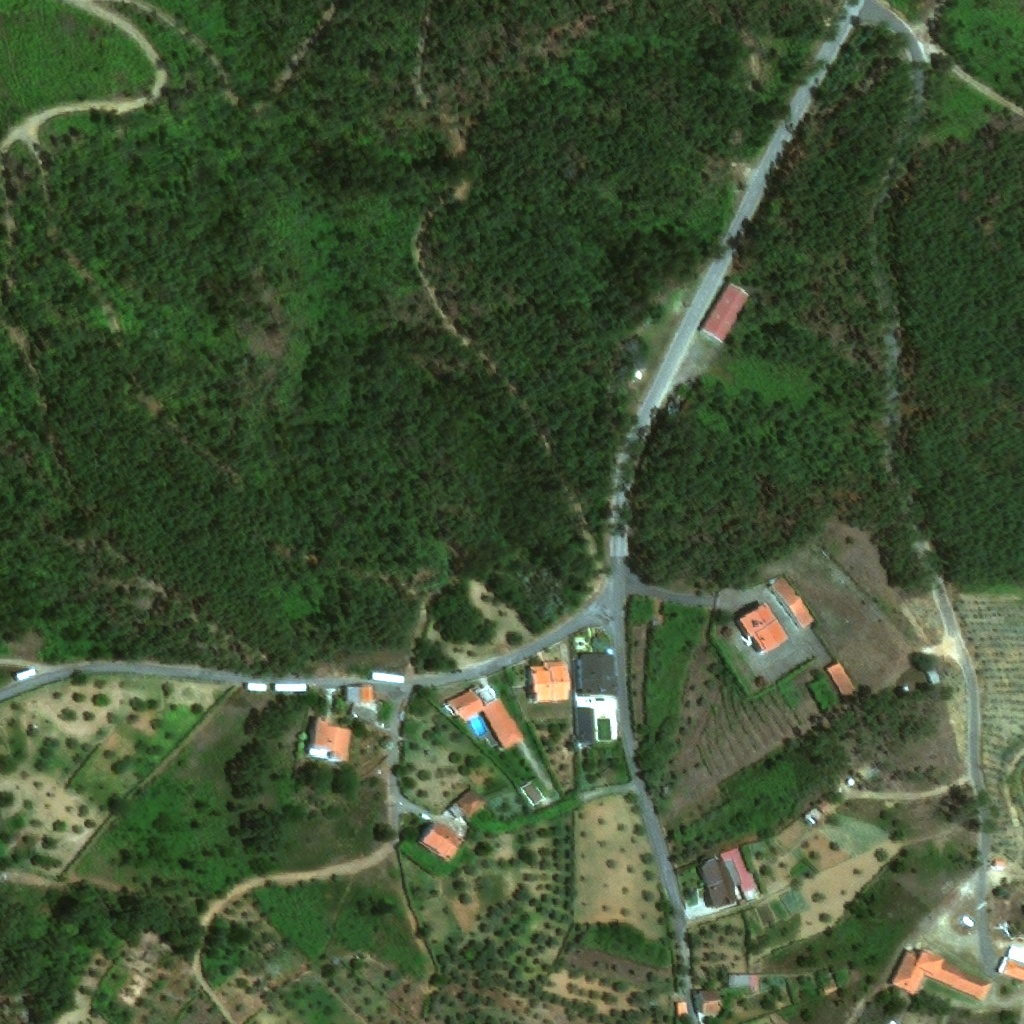0 no-damage: (889, 939, 993, 1001), (447, 688, 525, 749), (697, 282, 749, 344), (735, 601, 790, 654), (771, 577, 815, 628), (700, 856, 736, 907), (311, 717, 352, 760), (720, 848, 758, 894), (529, 661, 570, 703), (421, 823, 464, 860), (581, 654, 617, 694), (826, 661, 857, 699), (458, 789, 487, 816), (699, 990, 722, 1013), (576, 709, 592, 742), (725, 974, 759, 989), (1001, 958, 1023, 981), (522, 782, 542, 804), (924, 664, 941, 684), (346, 687, 362, 703), (675, 1001, 689, 1017), (816, 800, 831, 813), (823, 983, 839, 995)
4 un-classified: (835, 787, 841, 793)
